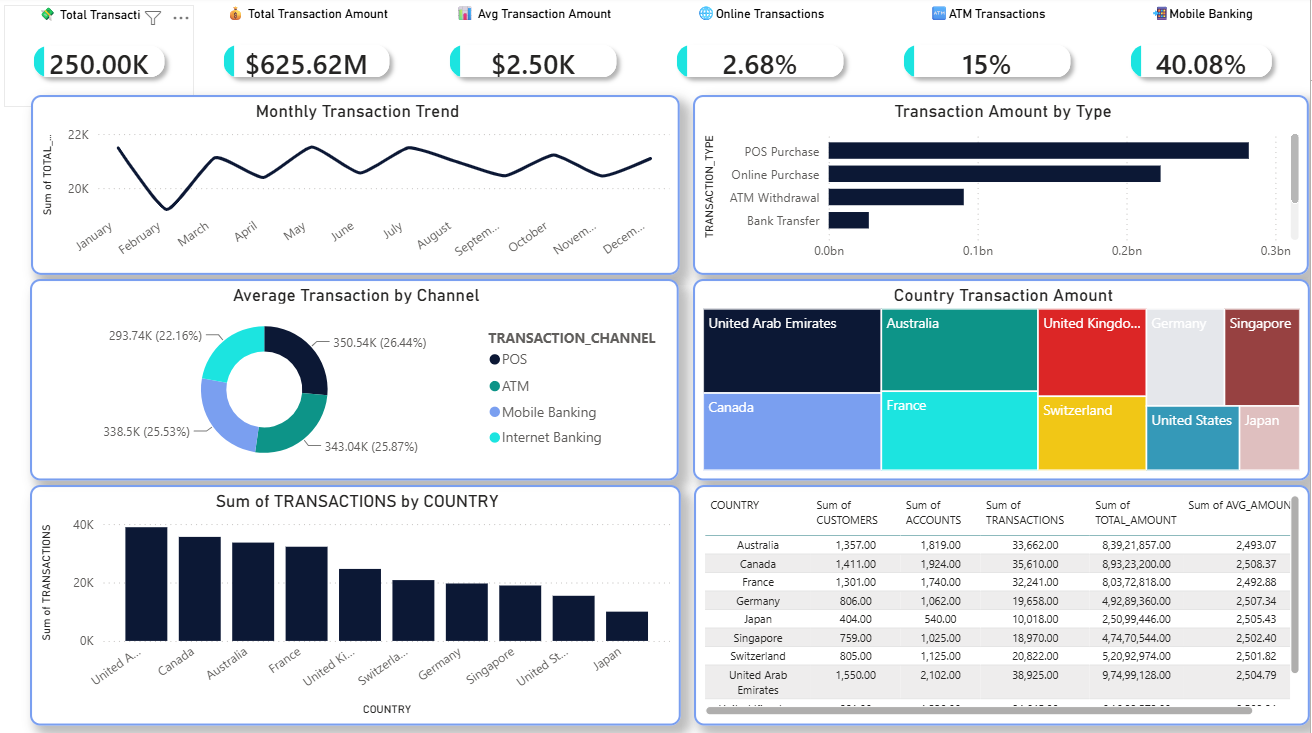

Layout of this report page (visuals, bound fields, positions):
{"tool":"powerbi","page":{"name":"Transaction Intelligence","canvas":[1280,720],"ordinal":2},"visuals":[{"type":"cardVisual","title":"💸 Total Transactions","fields":{"Data":["Sum(EXECUTIVE_SUMMARY.TOTAL_TRANSACTIONS)"]},"box":[9.3,8.2,185.1,99],"z":0},{"type":"cardVisual","title":"💰 Total Transaction Amount","fields":{"Data":["Sum(EXECUTIVE_SUMMARY.TOTAL_TRANSACTION_AMOUNT)"]},"box":[194.4,7,219.7,100.3],"z":1000},{"type":"cardVisual","title":"📊 Avg Transaction Amount","fields":{"Data":["Sum(EXECUTIVE_SUMMARY.AVG_TRANSACTION_AMOUNT)"]},"box":[414.1,7,221,100.3],"z":2000},{"type":"cardVisual","title":"🏧ATM Transactions","fields":{"Data":["TRANSACTION_ANALYTICS.ATM %"]},"box":[856,7,221,100.3],"z":3000},{"type":"cardVisual","title":"📲Mobile Banking","fields":{"Data":["TRANSACTION_ANALYTICS.Mobile Banking %"]},"box":[1077,6.7,195.6,100.3],"z":4000},{"type":"cardVisual","title":"🌐Online Transactions","fields":{"Data":["TRANSACTION_ANALYTICS.Internet Banking %"]},"box":[635.1,7,221,100.3],"z":5000},{"type":"lineChart","title":"Monthly Transaction Trend","fields":{"Category":["TRANSACTION_ANALYTICS.MONTH.Variation.Date Hierarchy.Month"],"Y":["Sum(TRANSACTION_ANALYTICS.TOTAL_TRANSACTIONS)"]},"box":[36.4,95.8,631.4,174.9],"z":5001},{"type":"clusteredBarChart","title":"Transaction Amount by Type","fields":{"Category":["TRANSACTION_ANALYTICS.TRANSACTION_TYPE"],"Y":["Sum(TRANSACTION_ANALYTICS.TOTAL_AMOUNT)"]},"box":[679.9,95.8,599.5,174.9],"z":5002},{"type":"donutChart","title":"Average Transaction by Channel","fields":{"Category":["TRANSACTION_ANALYTICS.TRANSACTION_CHANNEL"],"Y":["Sum(TRANSACTION_ANALYTICS.AVG_AMOUNT)"]},"box":[35.1,273.9,630.7,196],"z":5003},{"type":"treemap","title":"Country Transaction Amount","fields":{"Group":["COUNTRY_PERFORMANCE.COUNTRY"],"Values":["Sum(COUNTRY_PERFORMANCE.TOTAL_AMOUNT)"]},"box":[679.9,273.9,600.1,196],"z":5004},{"type":"clusteredColumnChart","fields":{"Category":["COUNTRY_PERFORMANCE.COUNTRY"],"Y":["Sum(COUNTRY_PERFORMANCE.TRANSACTIONS)"]},"box":[35.1,475,632.7,233.7],"z":5005},{"type":"tableEx","fields":{"Values":["COUNTRY_PERFORMANCE.COUNTRY","Sum(COUNTRY_PERFORMANCE.CUSTOMERS)","Sum(COUNTRY_PERFORMANCE.ACCOUNTS)","Sum(COUNTRY_PERFORMANCE.TRANSACTIONS)","Sum(COUNTRY_PERFORMANCE.TOTAL_AMOUNT)","Sum(COUNTRY_PERFORMANCE.AVG_AMOUNT)"]},"box":[680.5,475,599.5,233.7],"z":5006}]}

Visuals, with their boxes in screenshot pixels (x1, y1, x2, y2), scaled from the page's 1280x720 canvas onto the 1312x733 screenshot:
"💸 Total Transactions" cardVisual: l=10, t=8, r=199, b=109
"💰 Total Transaction Amount" cardVisual: l=199, t=7, r=424, b=109
"📊 Avg Transaction Amount" cardVisual: l=424, t=7, r=651, b=109
"🏧ATM Transactions" cardVisual: l=877, t=7, r=1104, b=109
"📲Mobile Banking" cardVisual: l=1104, t=7, r=1304, b=109
"🌐Online Transactions" cardVisual: l=651, t=7, r=878, b=109
"Monthly Transaction Trend" lineChart: l=37, t=98, r=684, b=276
"Transaction Amount by Type" clusteredBarChart: l=697, t=98, r=1311, b=276
"Average Transaction by Channel" donutChart: l=36, t=279, r=682, b=478
"Country Transaction Amount" treemap: l=697, t=279, r=1311, b=478
clusteredColumnChart - COUNTRY_PERFORMANCE.COUNTRY x Sum(COUNTRY_PERFORMANCE.TRANSACTIONS): l=36, t=484, r=684, b=721
tableEx - COUNTRY_PERFORMANCE.COUNTRY x Sum(COUNTRY_PERFORMANCE.CUSTOMERS): l=698, t=484, r=1311, b=721
